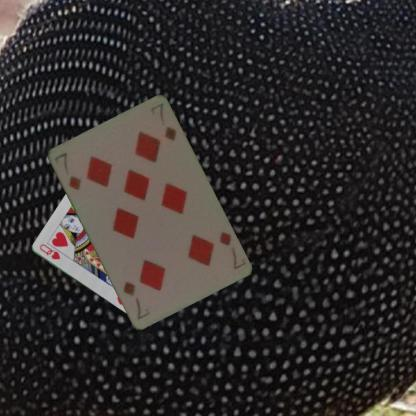7d: (51, 149, 82, 191), (216, 229, 247, 271)
Qh: (36, 242, 62, 262)
